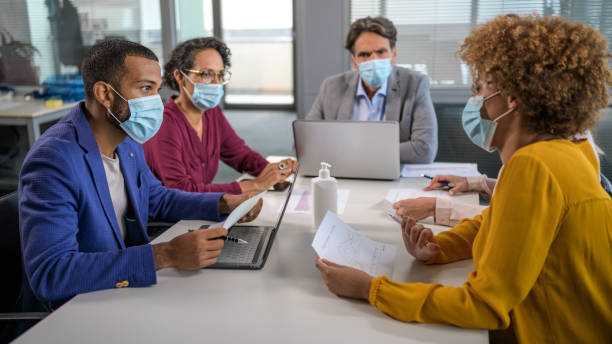with mask: (75, 39, 169, 146), (448, 44, 542, 151), (171, 32, 237, 122), (343, 13, 408, 89)
